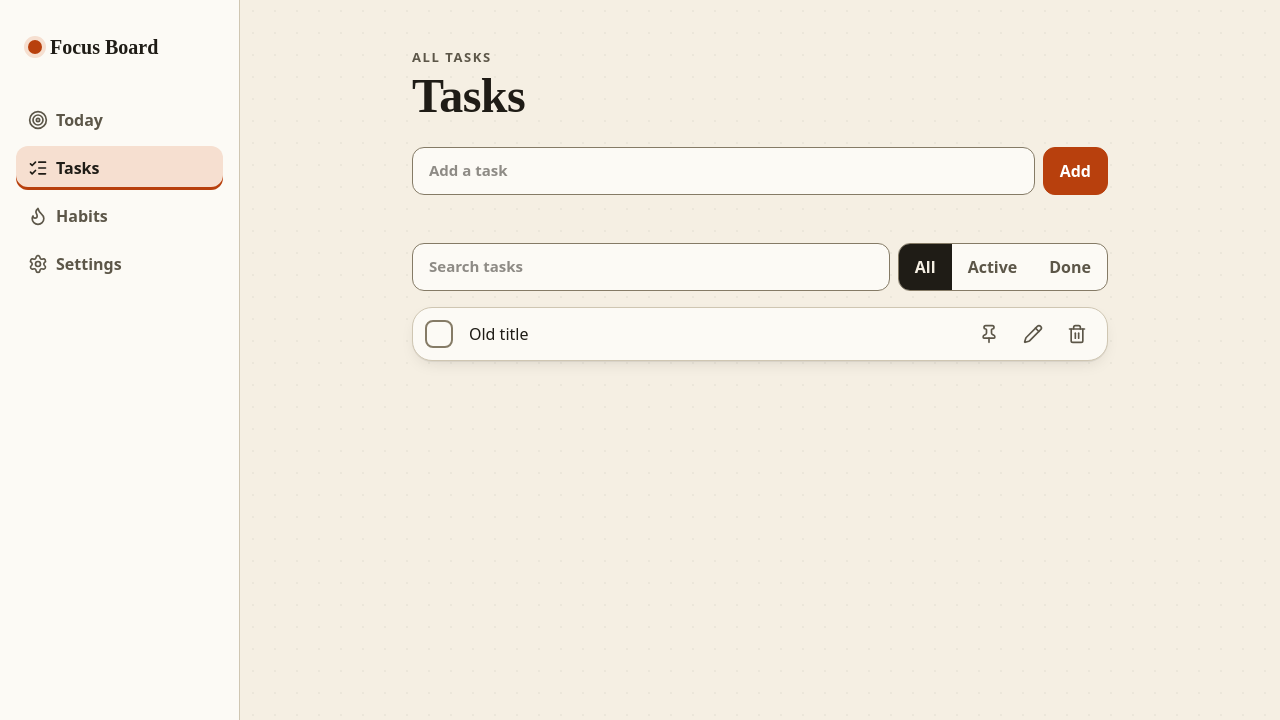
Test: AC3: editing tasks › saves on Enter, including a priority change
Step 1. Click the button named "Edit “Old title”" → (1033, 334), box top-left (1011, 312), bottom-right (1055, 356)
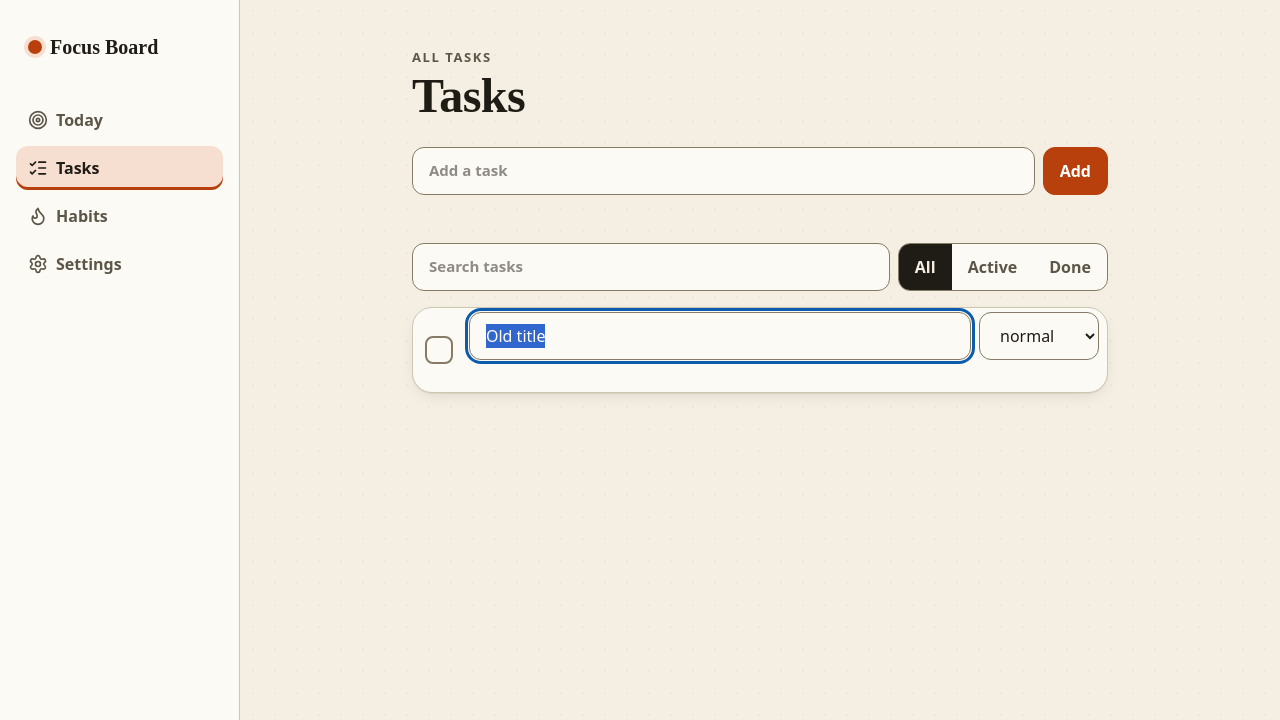
Step 2. Replace the text in the field named "Task title" with "New title" → (720, 336), box top-left (469, 312), bottom-right (971, 360)
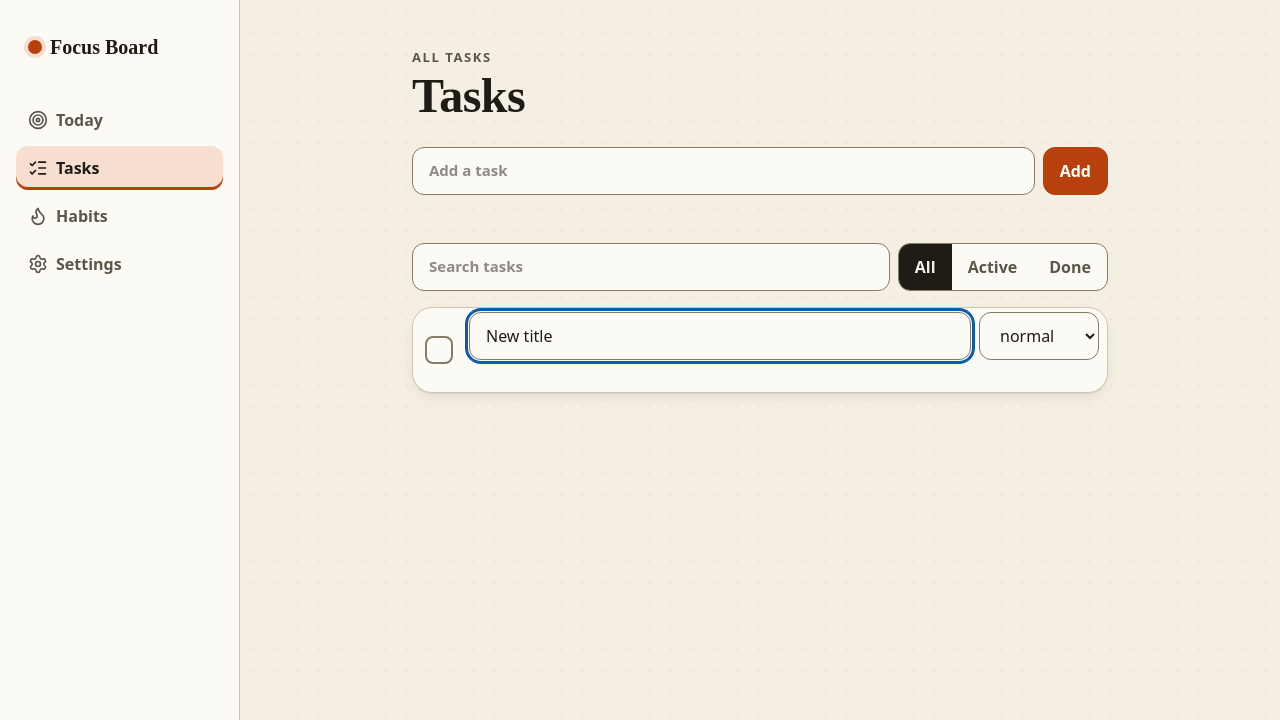
Step 3. Select "high" in the dropdown named "Priority" → (1039, 336), box top-left (979, 312), bottom-right (1099, 360)
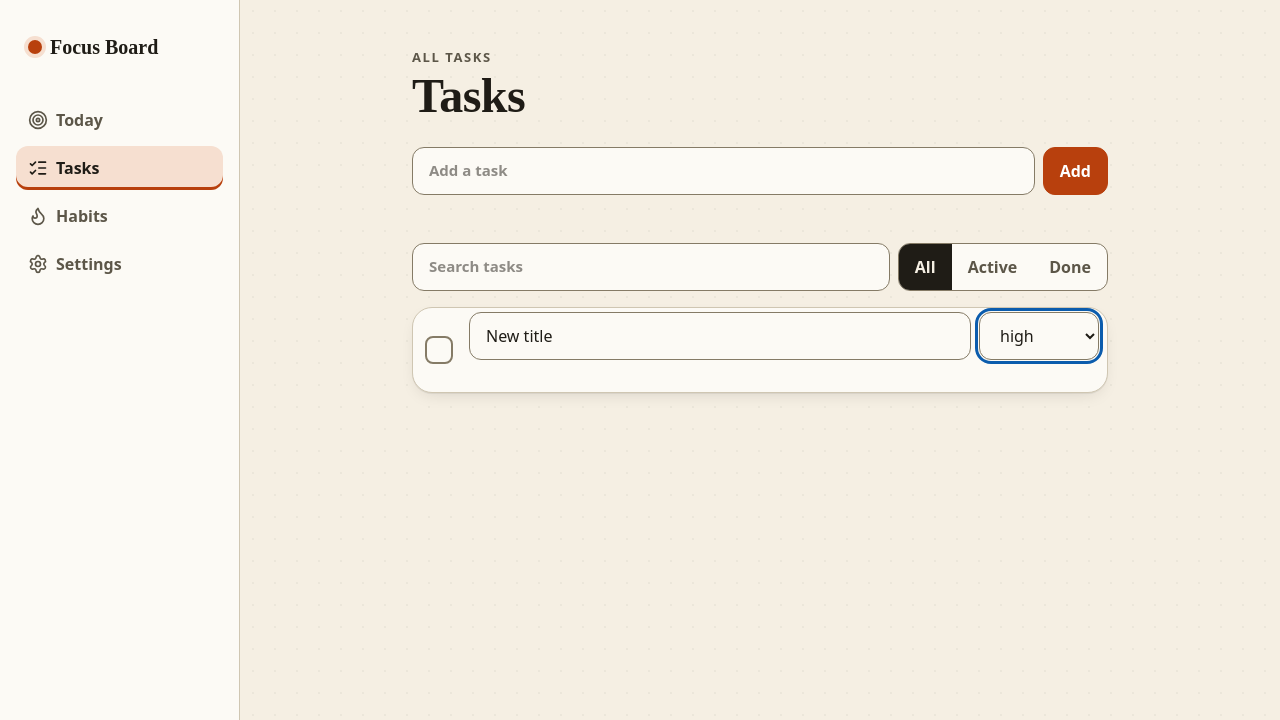
Step 4. Press Enter
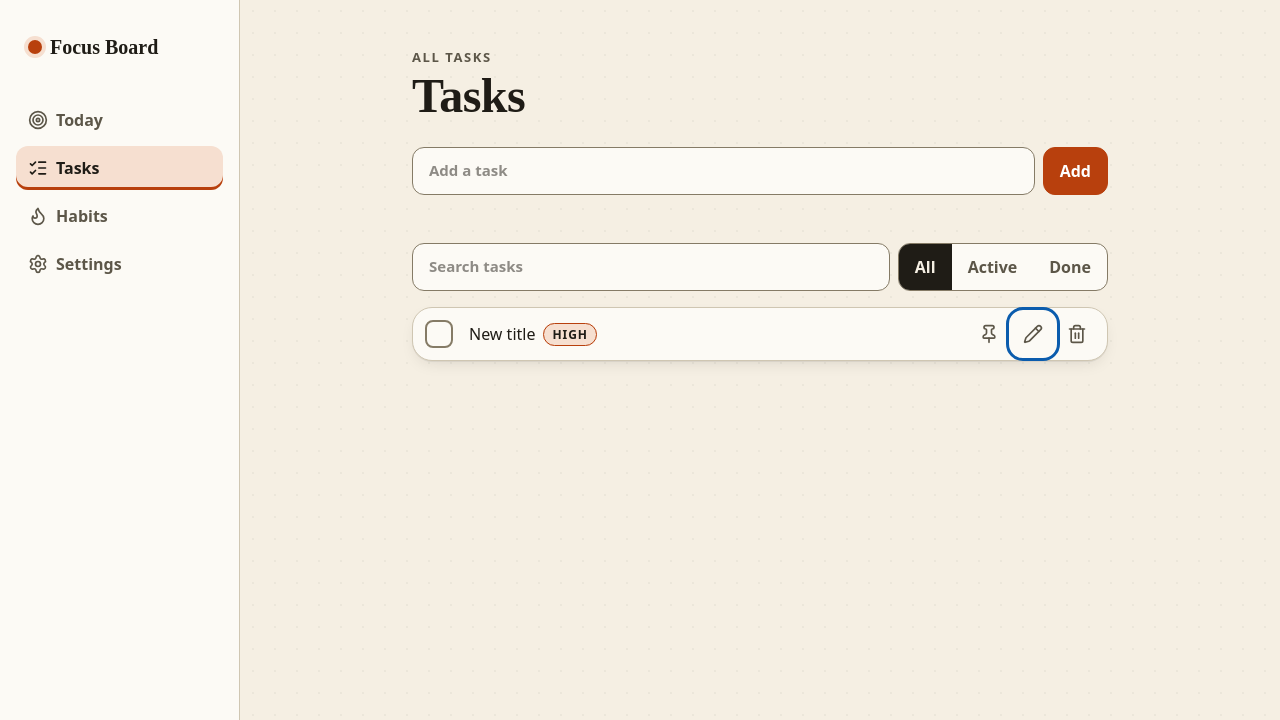
Expected: the list named "Tasks" shows "New title", top-left (469, 323), bottom-right (535, 345)
Expected: the text "high" is shown, top-left (543, 323), bottom-right (597, 346)
